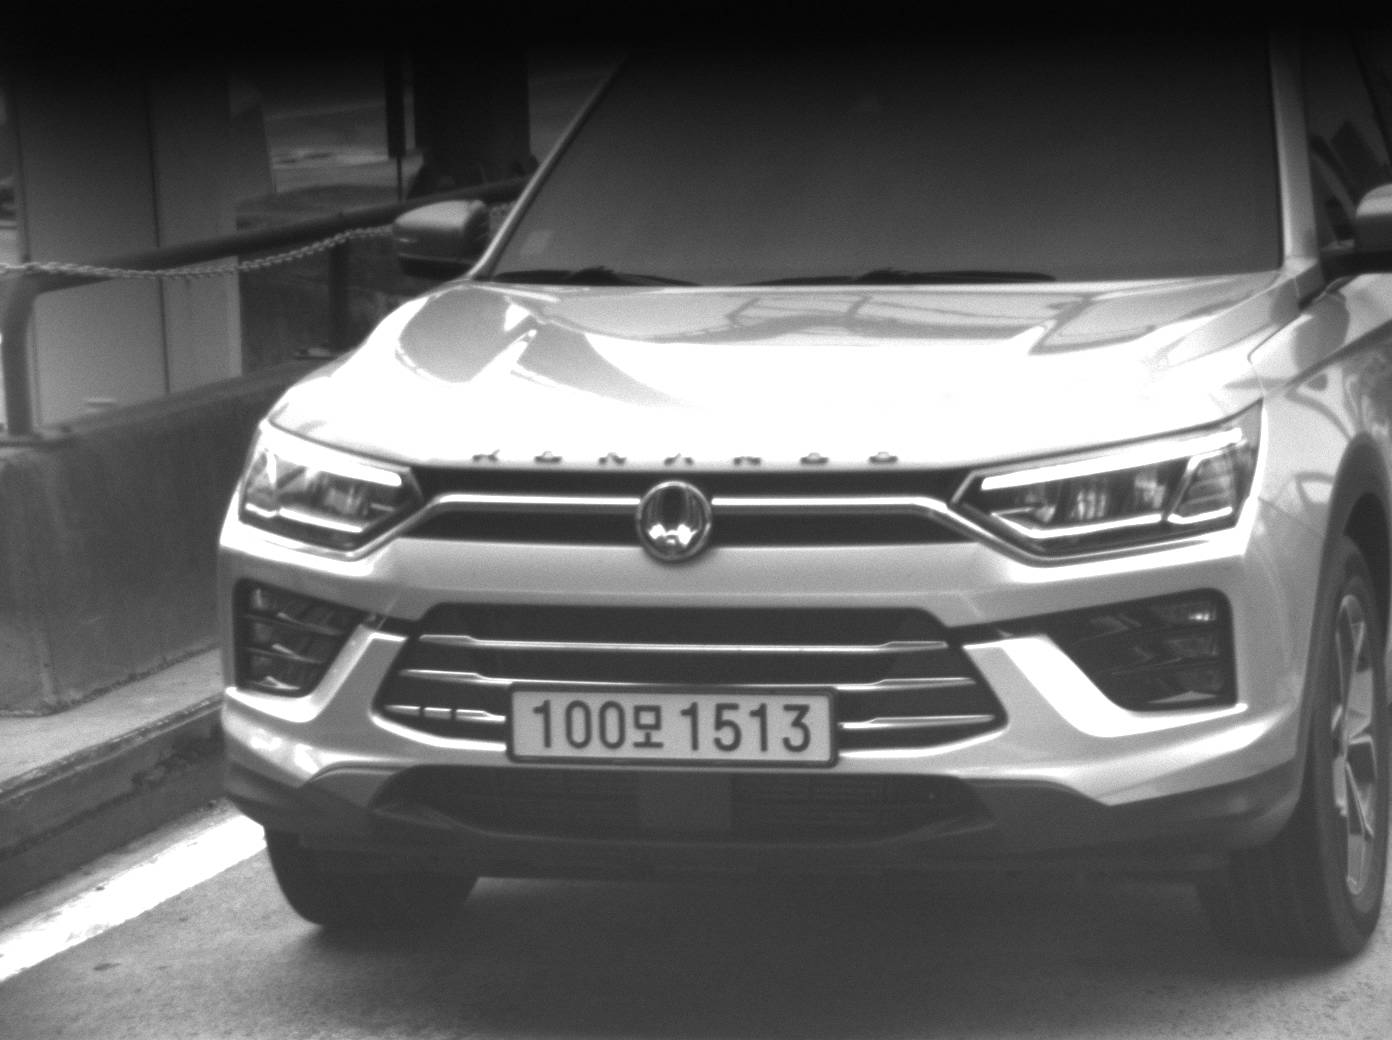car: (209, 1, 1390, 962)
plate: (507, 685, 838, 769)
